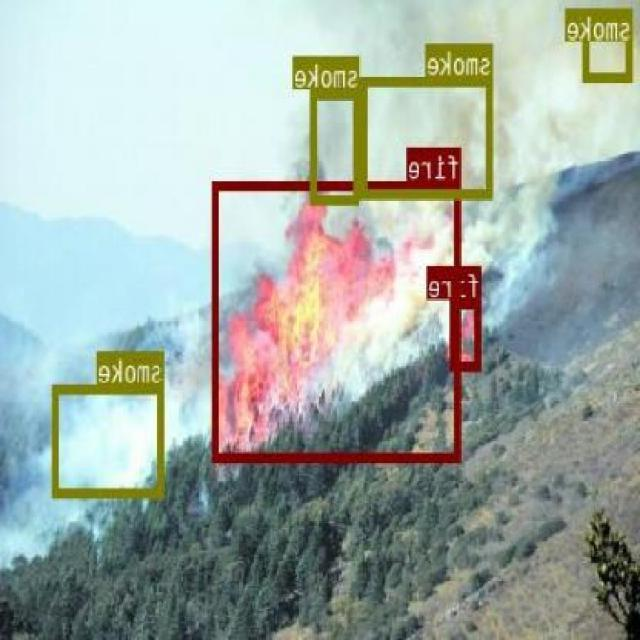Fire: (215, 179, 462, 461), (452, 298, 482, 369)
Smoke: (363, 76, 494, 196), (54, 382, 166, 495), (313, 88, 362, 204), (584, 8, 634, 80)
